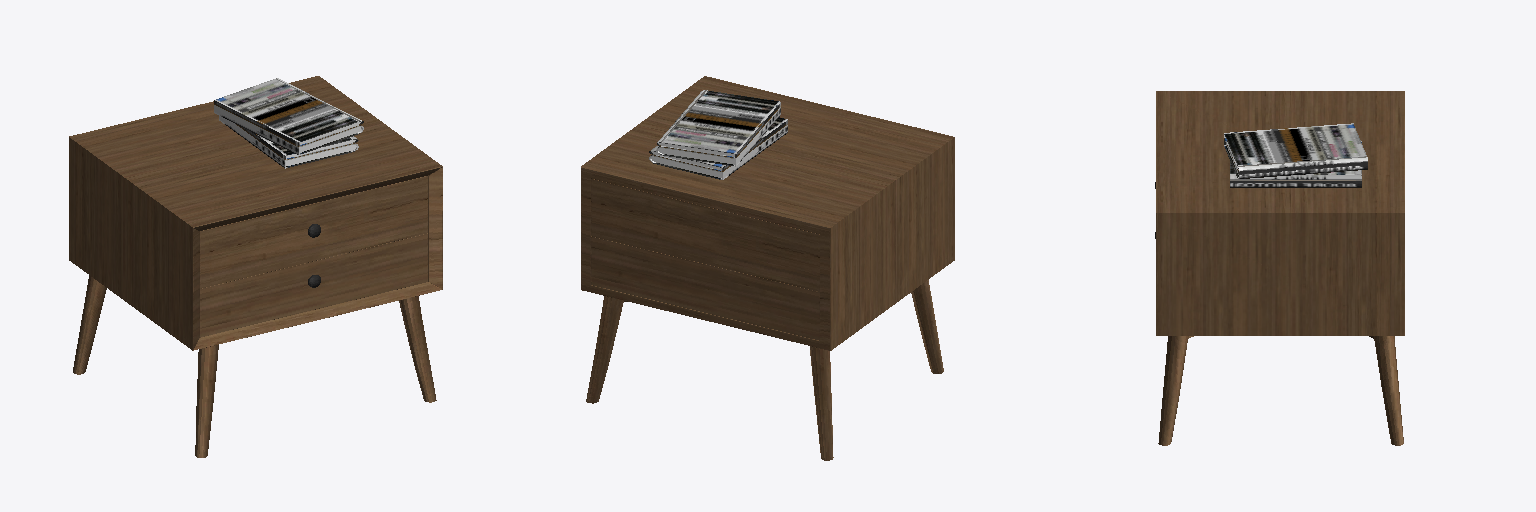
3 renders of one model, left to right at view 1: azimuth 30°, elevation 25°; view 2: azimuth 150°, elevation 25°; view 3: azimuth 270°, elevation 25°, orthographic.
Parts seen in each view (by area): view 1: solid_002, solid_004, solid_003; view 2: solid_002, solid_004, solid_003; view 3: solid_002, solid_004.
Boxes of the visible parts, x1,y1,x2,y2 form: solid_002: [69, 76, 442, 457]; solid_004: [214, 78, 363, 168]; solid_003: [286, 121, 361, 165]; solid_002: [581, 76, 954, 460]; solid_004: [649, 90, 787, 179]; solid_003: [651, 143, 734, 177]; solid_002: [1156, 91, 1404, 445]; solid_004: [1224, 123, 1367, 187].
Bounding box in the file's own units: 0.6268 × 0.6236 × 0.5427.
1 materials, 1 textured.